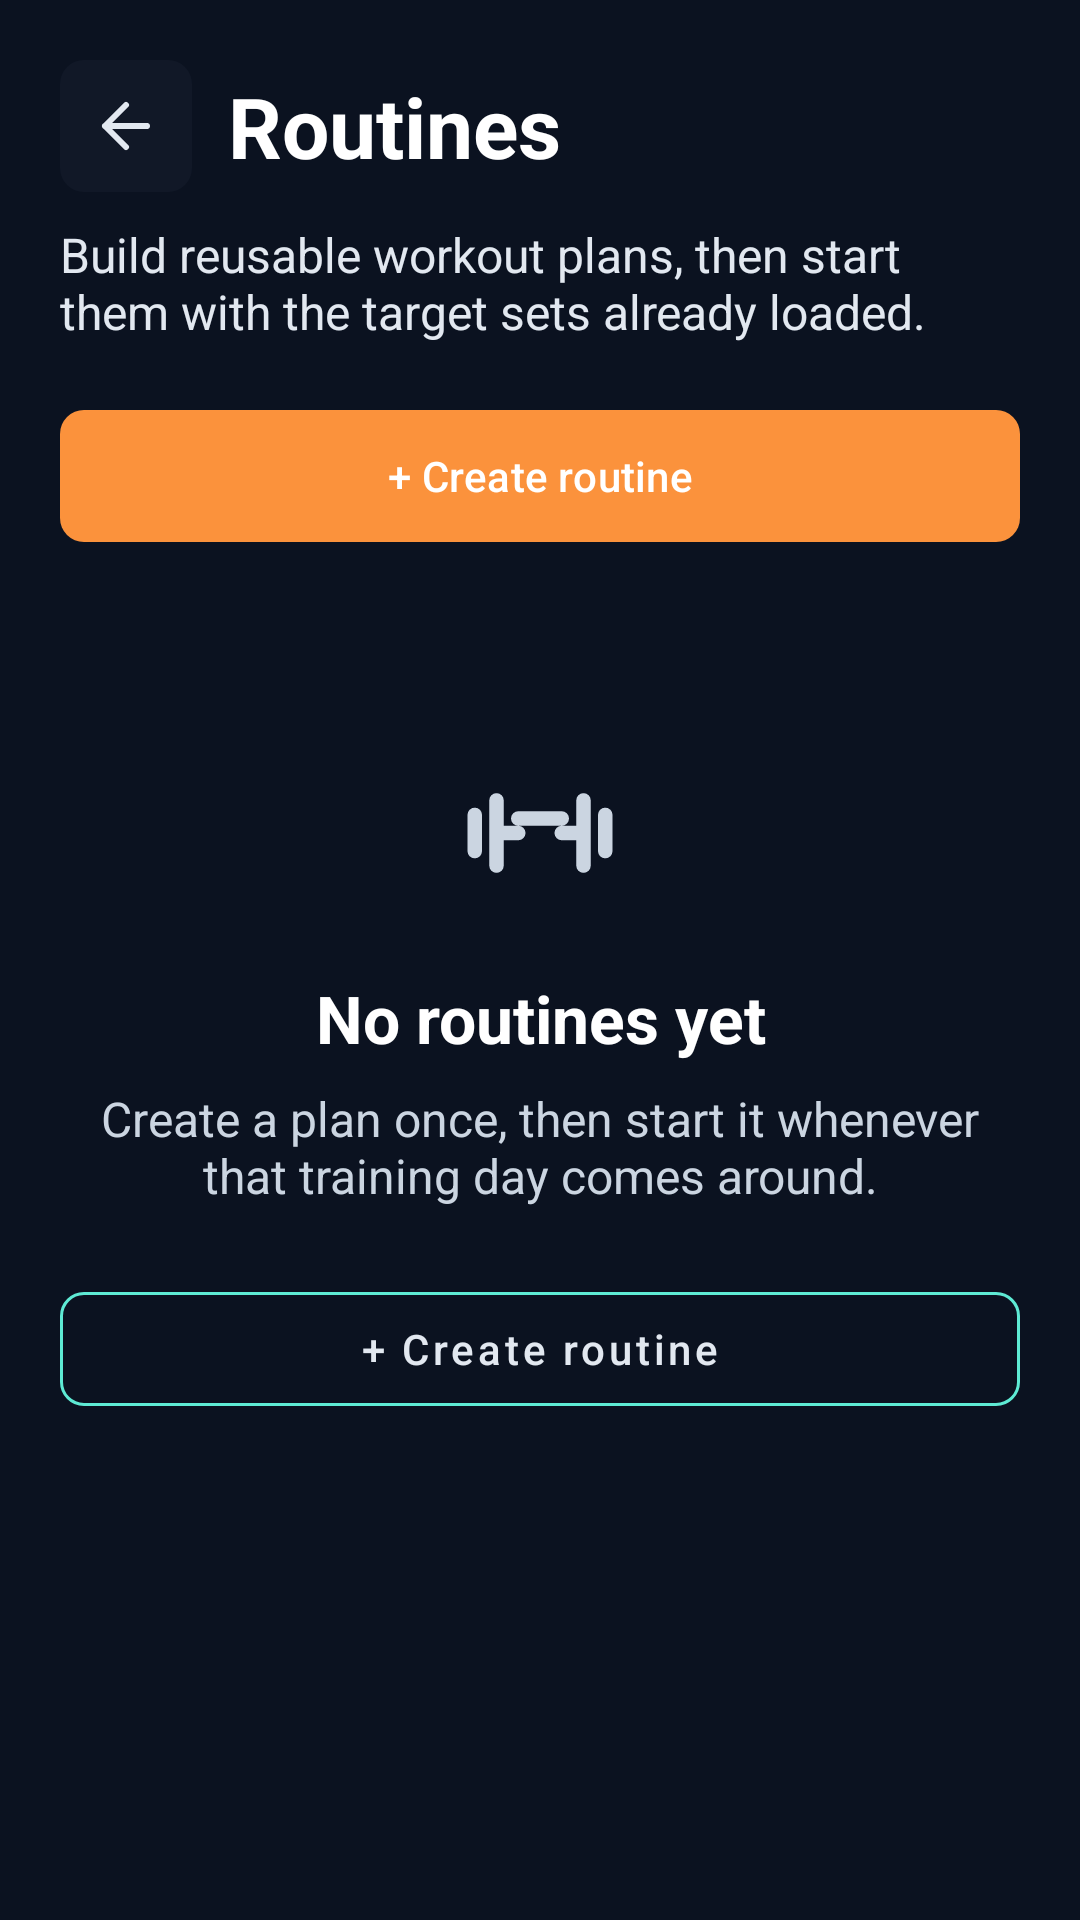

Screen size 1080 x 1920. Icon name, then its center in pixels as [x,y]:
Back: [126,126]
dumbbell: [540,833]
